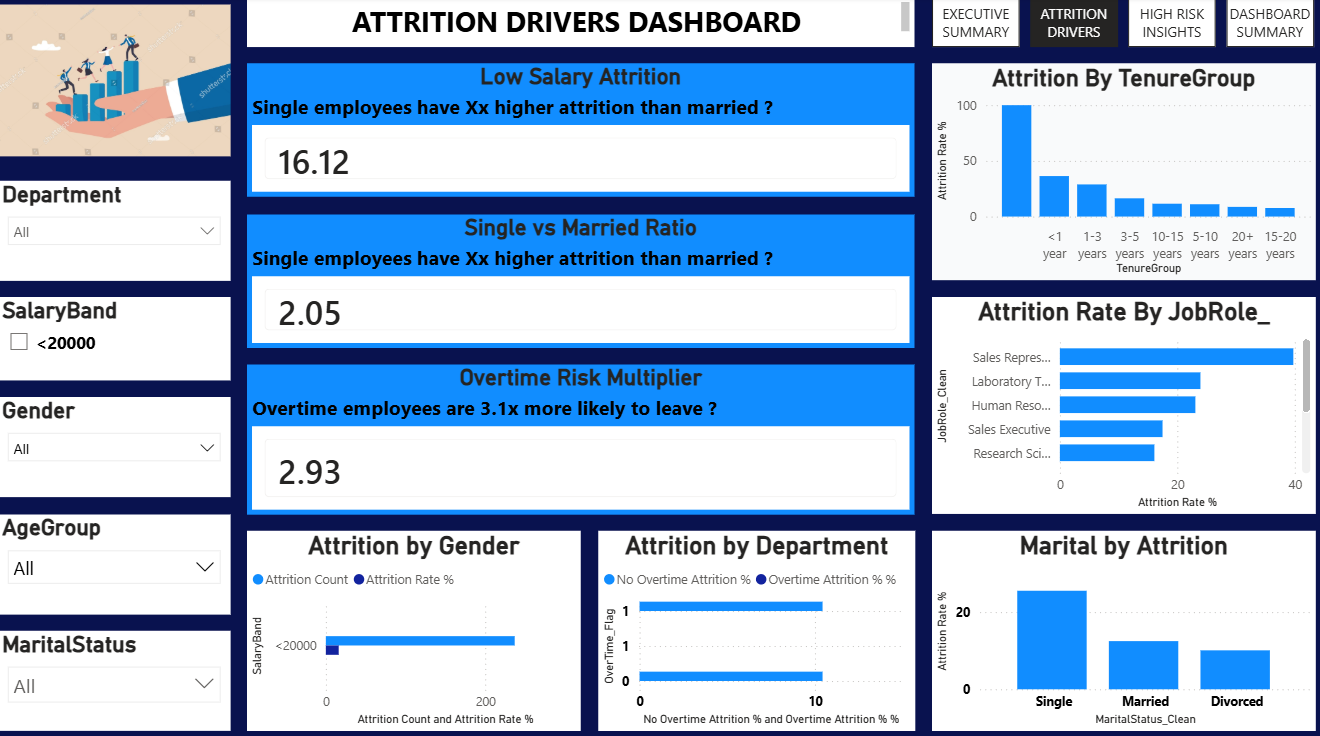

The page's visual inventory and layout, read from the dashboard file:
{"tool":"powerbi","page":{"name":"ATTRITION DRIVERS","canvas":[1280,720],"ordinal":1},"visuals":[{"type":"clusteredBarChart","title":"Attrition by Department","fields":{"Category":["HR_Data_Cleaned.OverTime_Flag"],"Y":["HR_Data_Cleaned.No Overtime Attrition %","HR_Data_Cleaned.Overtime Attrition % %"]},"box":[576,512,304,192],"z":8000},{"type":"clusteredColumnChart","title":"Marital by Attrition","fields":{"Category":["HR_Data_Cleaned.MaritalStatus_Clean"],"Y":["HR_Data_Cleaned.Attrition Rate %"]},"box":[896,512,368,192],"z":9000},{"type":"clusteredBarChart","title":"Attrition by Gender","fields":{"Category":["HR_Data_Cleaned.SalaryBand"],"Y":["HR_Data_Cleaned.Attrition Count","HR_Data_Cleaned.Attrition Rate %"]},"box":[240,512,320,192],"z":10000},{"type":"clusteredColumnChart","title":"Attrition By TenureGroup","fields":{"Category":["HR_Data_Cleaned.TenureGroup"],"Y":["HR_Data_Cleaned.Attrition Rate %"]},"box":[896,64,368,208],"z":11000},{"type":"slicer","title":"Gender","fields":{"Values":["HR_Data_Cleaned.Gender"]},"box":[0,384,224,96],"z":12000},{"type":"slicer","title":"SalaryBand","fields":{"Values":["HR_Data_Cleaned.SalaryBand"]},"box":[0,288,224,80],"z":13000},{"type":"slicer","title":"MaritalStatus","fields":{"Values":["HR_Data_Cleaned.MaritalStatus_Clean"]},"box":[0,608,224,96],"z":15000},{"type":"slicer","title":"AgeGroup","fields":{"Values":["HR_Data_Cleaned.AgeGroup"]},"box":[0,496,224,96],"z":16000},{"type":"textbox","box":[240,0,640,48],"z":17000},{"type":"image","box":[0,0,224,160],"z":18000},{"type":"barChart","title":"Attrition Rate  By JobRole_","fields":{"Category":["HR_Data_Cleaned.JobRole_Clean"],"Y":["HR_Data_Cleaned.Attrition Rate %"]},"box":[896,288,368,208],"z":18001},{"type":"cardVisual","title":"Overtime Risk Multiplier","fields":{"Data":["HR_Data_Cleaned.Overtime Risk Multiplier FIXED"]},"box":[240,352,640,144],"z":18003},{"type":"cardVisual","title":"Single vs Married Ratio","fields":{"Data":["HR_Data_Cleaned.Single vs Married Ratio"]},"box":[240,208,640,128],"z":18004},{"type":"cardVisual","title":"Low Salary Attrition","fields":{"Data":["HR_Data_Cleaned.Low Salary Attrition % FIXED"]},"box":[240,64,640,128],"z":18005},{"type":"slicer","title":"Department","fields":{"Values":["HR_Data_Cleaned.Department"]},"box":[0,176,224,96],"z":18006},{"type":"pageNavigator","box":[896,0,368,48],"z":18007}]}

Visuals, with their boxes in screenshot pixels (x1, y1, x2, y2), scaled from the page's 1280x720 canvas onto the 1320x736 screenshot:
"Attrition by Department" clusteredBarChart: BBox(594, 523, 908, 720)
"Marital by Attrition" clusteredColumnChart: BBox(924, 523, 1304, 720)
"Attrition by Gender" clusteredBarChart: BBox(248, 523, 578, 720)
"Attrition By TenureGroup" clusteredColumnChart: BBox(924, 65, 1304, 278)
"Gender" slicer: BBox(0, 393, 231, 491)
"SalaryBand" slicer: BBox(0, 294, 231, 376)
"MaritalStatus" slicer: BBox(0, 622, 231, 720)
"AgeGroup" slicer: BBox(0, 507, 231, 605)
textbox: BBox(248, 0, 908, 49)
image: BBox(0, 0, 231, 164)
"Attrition Rate  By JobRole_" barChart: BBox(924, 294, 1304, 507)
"Overtime Risk Multiplier" cardVisual: BBox(248, 360, 908, 507)
"Single vs Married Ratio" cardVisual: BBox(248, 213, 908, 343)
"Low Salary Attrition" cardVisual: BBox(248, 65, 908, 196)
"Department" slicer: BBox(0, 180, 231, 278)
pageNavigator: BBox(924, 0, 1304, 49)
